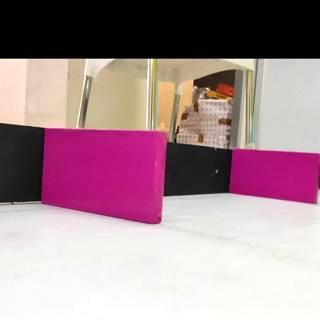xparking: (56, 132, 162, 219), (232, 156, 318, 196)
